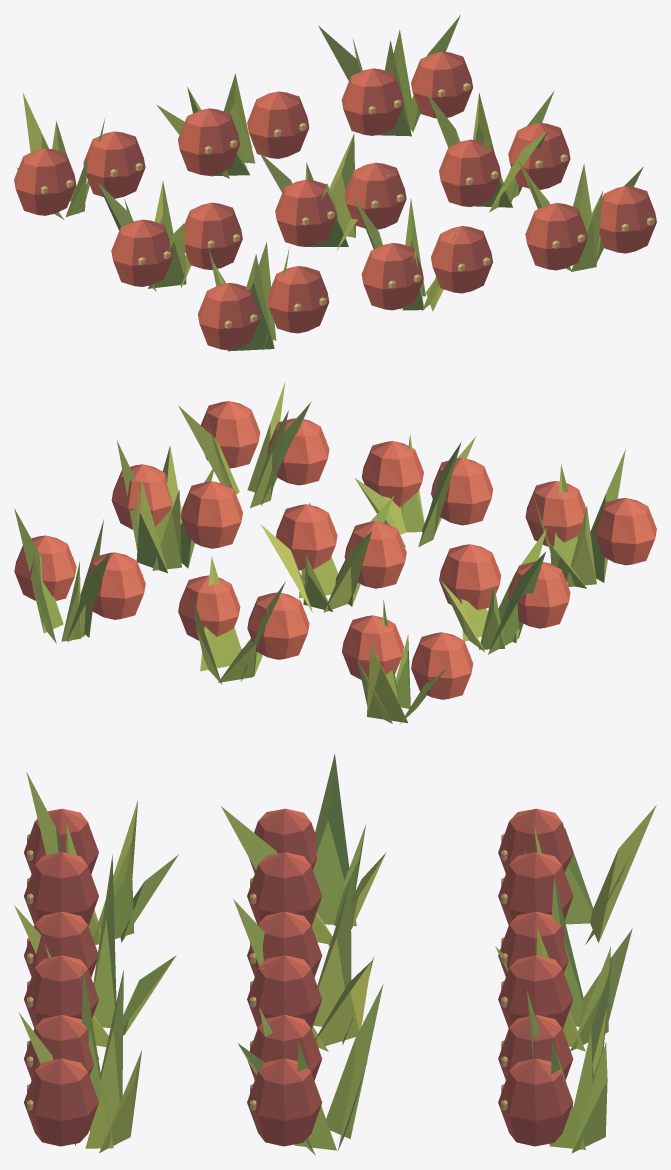
The model's file is crop_strawberry.glb.
The picture shows the model from 3 angles, top to bottom: view 1: azimuth 30°, elevation 25°; view 2: azimuth 150°, elevation 25°; view 3: azimuth 270°, elevation 25°; orthographic projection. The views are drawn at different scales.
Visible parts, largest first — view 1: Reife Erdbeeren; view 2: Reife Erdbeeren; view 3: Reife Erdbeeren.
Boxes of the visible parts, box(x1,y1,x2,y2) form: Reife Erdbeeren: box(14, 15, 656, 351); Reife Erdbeeren: box(14, 382, 656, 724); Reife Erdbeeren: box(14, 753, 656, 1155).
Size of the model in its own units: 0.9854 by 0.2356 by 0.9219.
